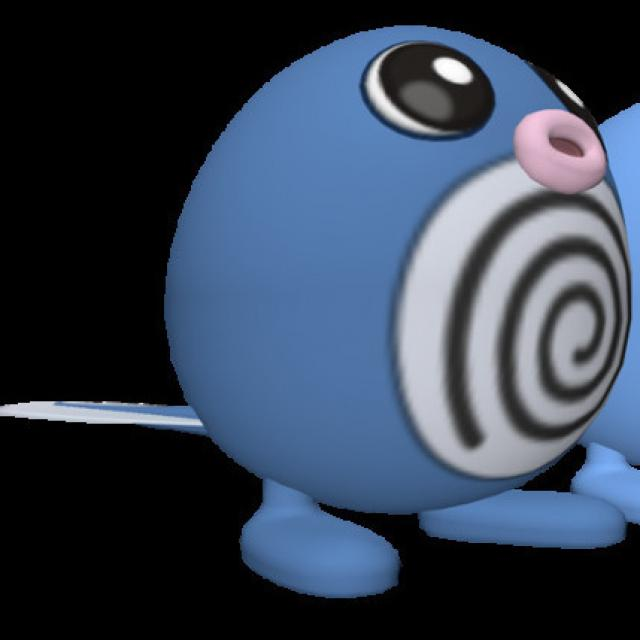Poliwag: (164, 23, 632, 590)
